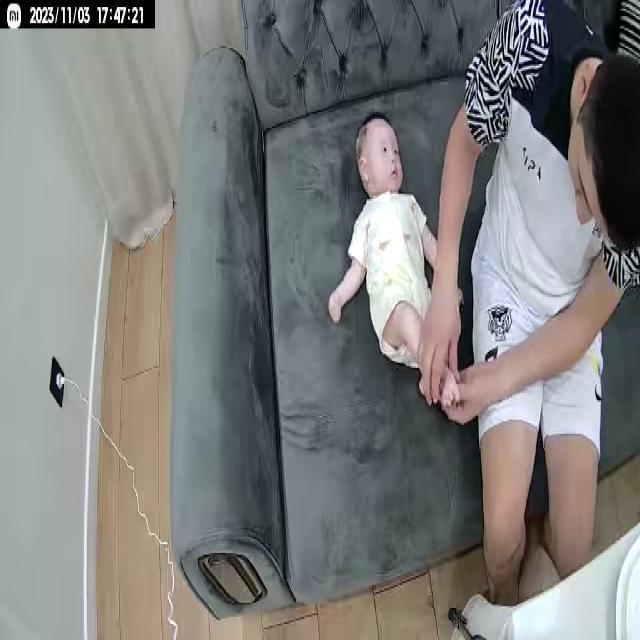baby: (326, 113, 462, 404)
